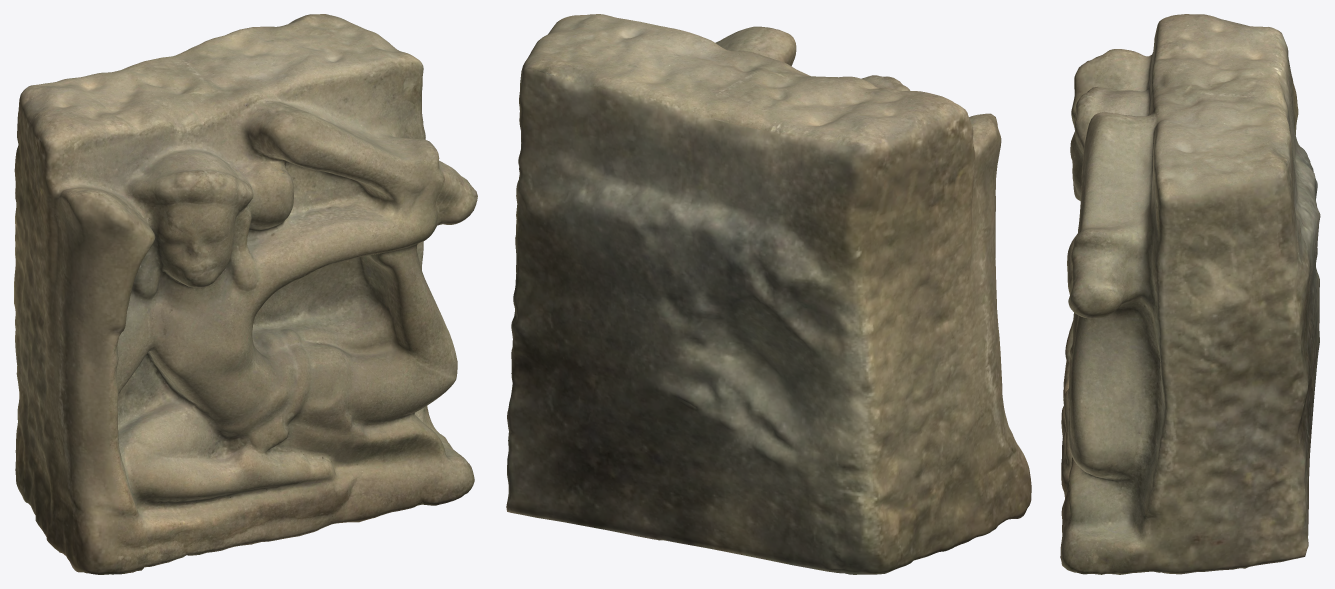
File: 17_chienbinhbay_final.glb
3 renders of one model, left to right at view 1: azimuth 30°, elevation 25°; view 2: azimuth 150°, elevation 25°; view 3: azimuth 270°, elevation 25°, orthographic. The views are drawn at different scales.
Size of the model in its own units: 0.4529 by 0.4543 by 0.2694.
Materials: 1 (1 with a texture image).
